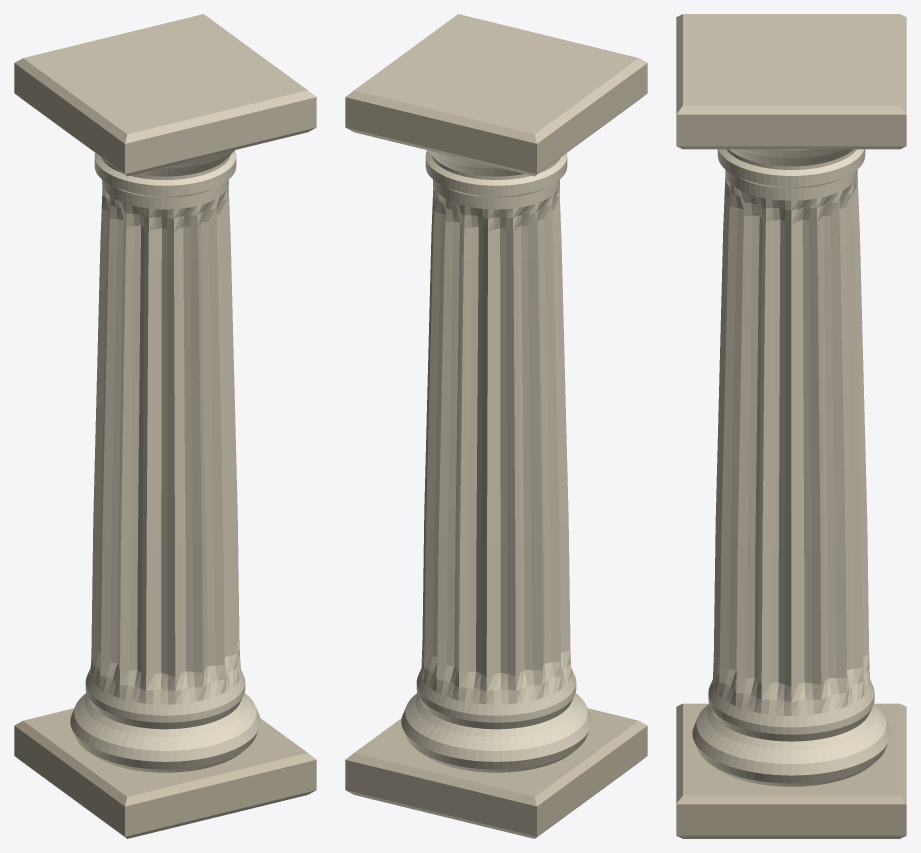
3 views of the same model, side by side, from view 1: azimuth 30°, elevation 25°; view 2: azimuth 150°, elevation 25°; view 3: azimuth 270°, elevation 25° (orthographic). The views are drawn at different scales.
Visible parts, largest first — view 1: Shaft_ContinuousSixteenFlutesNeckEchinus, Capital_ThickSquareAbacus, Plinth_CompleteChamferedSquare; view 2: Shaft_ContinuousSixteenFlutesNeckEchinus, Capital_ThickSquareAbacus, Plinth_CompleteChamferedSquare; view 3: Shaft_ContinuousSixteenFlutesNeckEchinus, Capital_ThickSquareAbacus, Plinth_CompleteChamferedSquare.
Part boxes in pixels (box(x1,y1,x2,y2)): Shaft_ContinuousSixteenFlutesNeckEchinus: box(70, 150, 260, 772); Capital_ThickSquareAbacus: box(14, 14, 316, 176); Plinth_CompleteChamferedSquare: box(14, 708, 316, 838); Shaft_ContinuousSixteenFlutesNeckEchinus: box(401, 150, 591, 772); Capital_ThickSquareAbacus: box(345, 14, 647, 176); Plinth_CompleteChamferedSquare: box(345, 708, 647, 838); Shaft_ContinuousSixteenFlutesNeckEchinus: box(692, 149, 890, 786); Capital_ThickSquareAbacus: box(676, 14, 906, 149); Plinth_CompleteChamferedSquare: box(676, 703, 906, 838).
Bounding box in the file's own units: 0.86 × 3.02 × 0.86.
